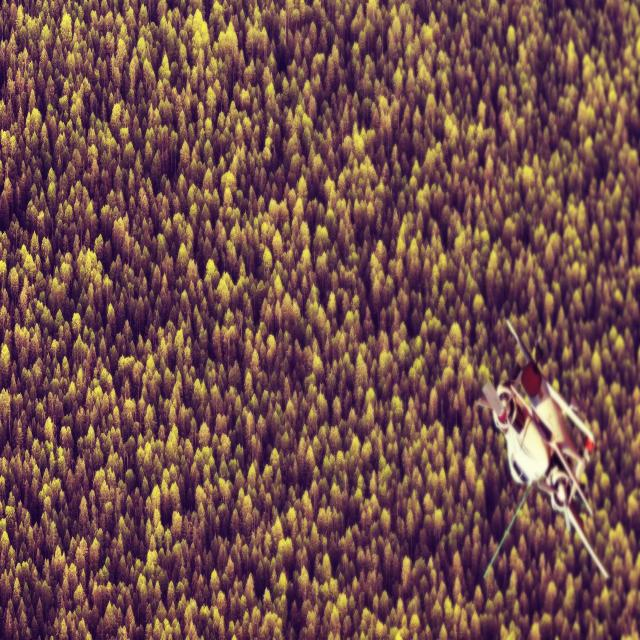airplane: (476, 317, 610, 581)
